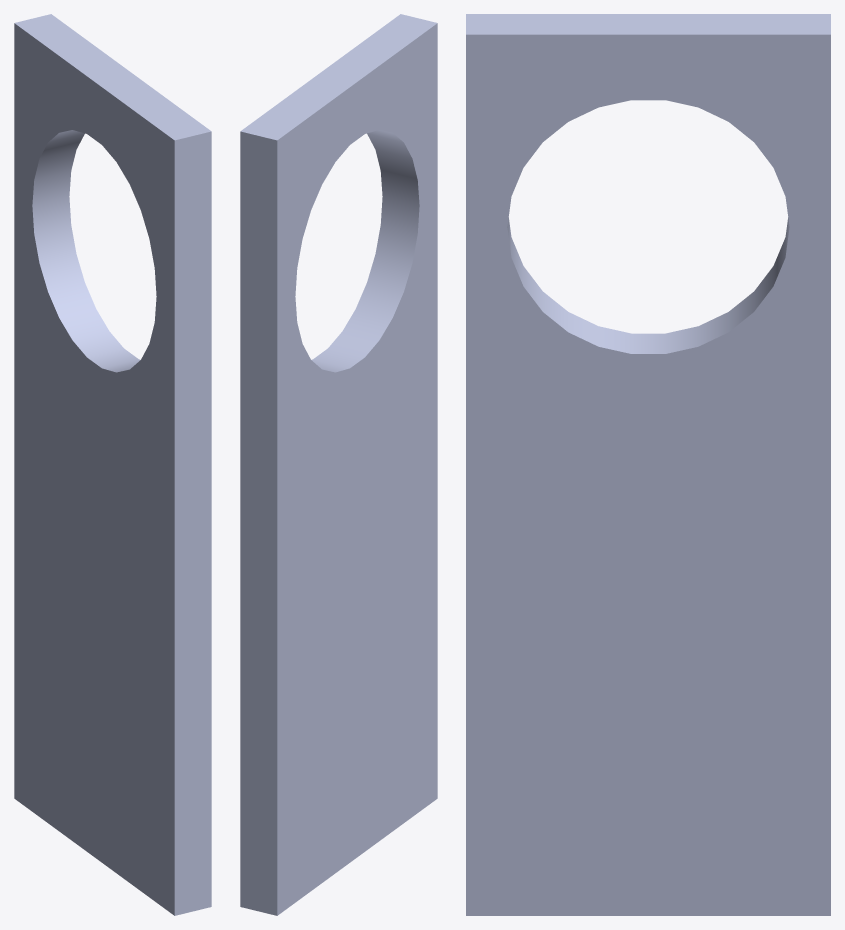
Rendered from Mounument_A.FBX.
3 views of the same model, side by side, from view 1: azimuth 30°, elevation 25°; view 2: azimuth 150°, elevation 25°; view 3: azimuth 270°, elevation 25° (orthographic). The views are drawn at different scales.
Parts seen in each view (by area): view 1: Cut-Extrude1; view 2: Cut-Extrude1; view 3: Cut-Extrude1.
Boxes of the visible parts, left/top/right/bottom form: Cut-Extrude1: left=14, top=14, right=211, bottom=915; Cut-Extrude1: left=240, top=14, right=437, bottom=915; Cut-Extrude1: left=466, top=14, right=830, bottom=915.
Bounding box in the file's own units: 39.37 × 787 × 295.
